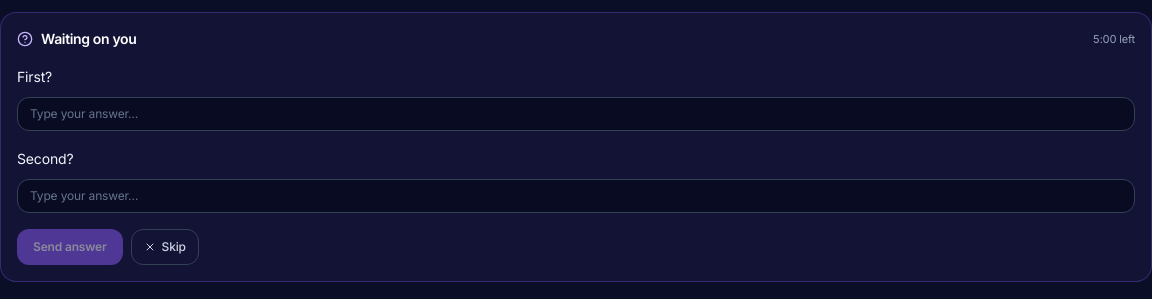
Test: AskUserQuestionCard › requires an answer for every native question before enabling submit
In the field named "Your answer to: First?": (576, 114) top-left (17, 97), bottom-right (1135, 131), type "one"
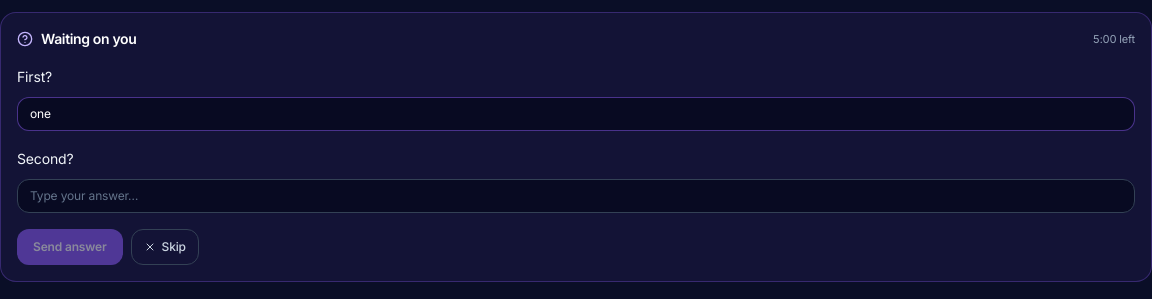
Expected: the button "Send answer" is disabled, top-left (17, 229), bottom-right (123, 265)
In the field named "Your answer to: Second?": (576, 196) top-left (17, 179), bottom-right (1135, 213), type "two"
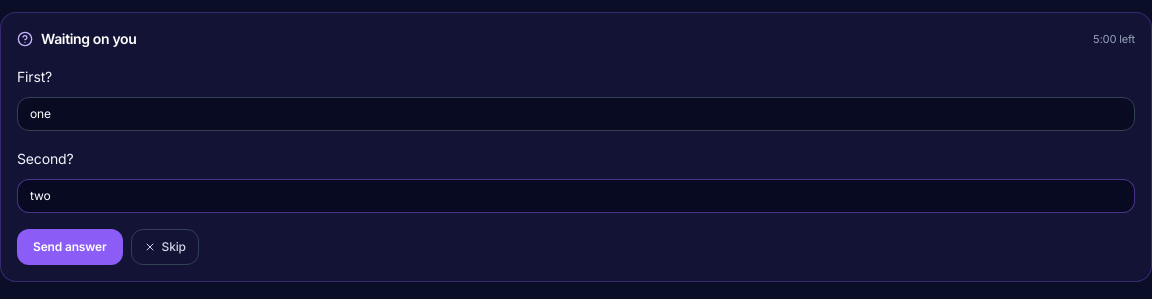
Now the button "Send answer" is enabled, box top-left (17, 229), bottom-right (123, 265)
